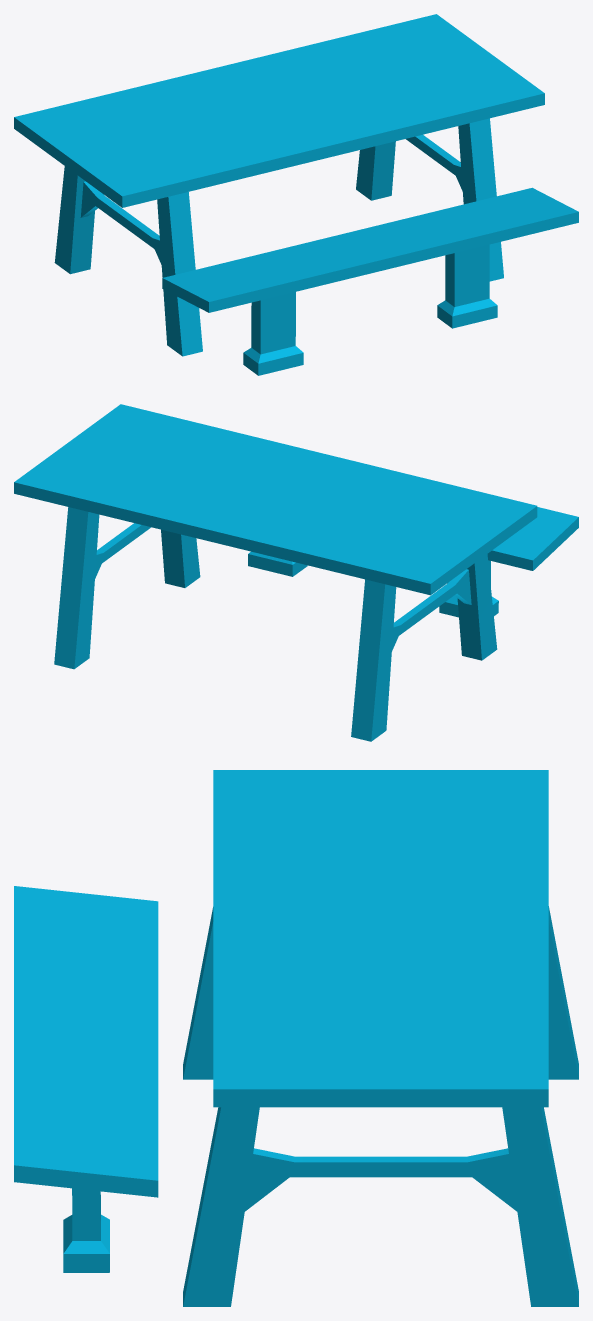
Rendered from MESH_ParkDecoPackTwo.fbx.
3 views of the same model, one above another, from view 1: azimuth 30°, elevation 25°; view 2: azimuth 150°, elevation 25°; view 3: azimuth 270°, elevation 25° (orthographic). The views are drawn at different scales.
Visible parts, largest first — view 1: MESH_LunchTable, MESH_TableSeat; view 2: MESH_LunchTable, MESH_TableSeat; view 3: MESH_LunchTable, MESH_TableSeat.
Boxes of the visible parts, bbox=[...] form: MESH_LunchTable: bbox=[14, 14, 544, 356]; MESH_TableSeat: bbox=[162, 187, 578, 375]; MESH_LunchTable: bbox=[14, 404, 537, 741]; MESH_TableSeat: bbox=[248, 507, 578, 617]; MESH_LunchTable: bbox=[183, 770, 578, 1306]; MESH_TableSeat: bbox=[14, 886, 158, 1272].
Bounding box in the file's own units: 2.25 × 0.8429 × 1.69.
